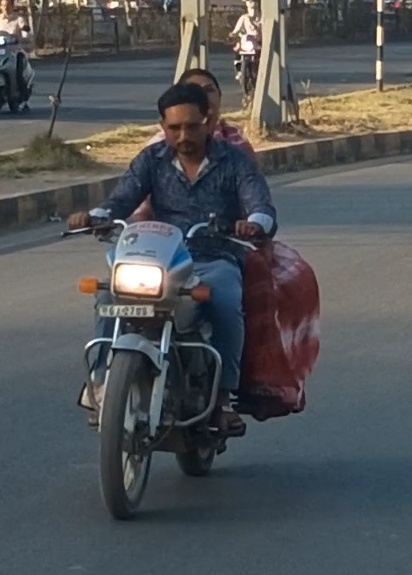BikeWithRider: (44, 63, 329, 526), (0, 0, 40, 118)
NoHelmet: (150, 81, 215, 159), (169, 63, 227, 133)
